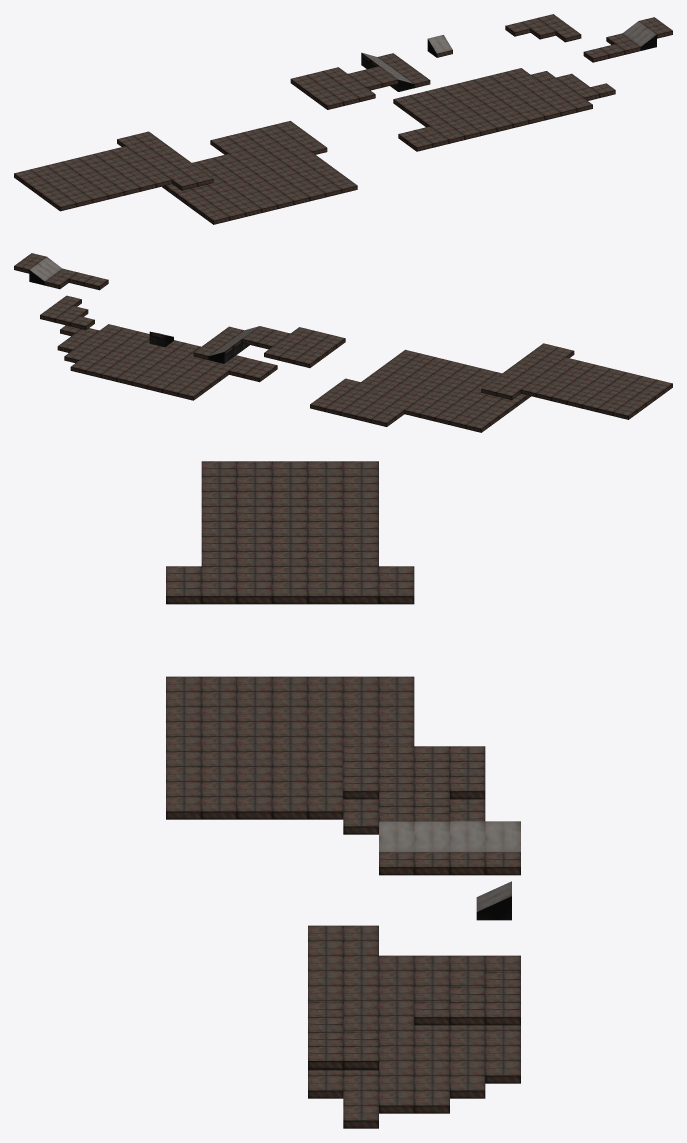
Rendered from TermProject_P1_floor.fbx.
3 renders of one model, top to bottom at view 1: azimuth 30°, elevation 25°; view 2: azimuth 150°, elevation 25°; view 3: azimuth 270°, elevation 25°, orthographic. The views are drawn at different scales.
Visible parts, largest first — view 1: Floor.681; view 2: Floor.681; view 3: Floor.681.
Boxes of the visible parts, x1,y1,x2,y2 form: Floor.681: (14,14,672,224); Floor.681: (14,253,672,432); Floor.681: (166,461,520,1128).
Size of the model in its own units: 16000 by 1400 by 4000.
